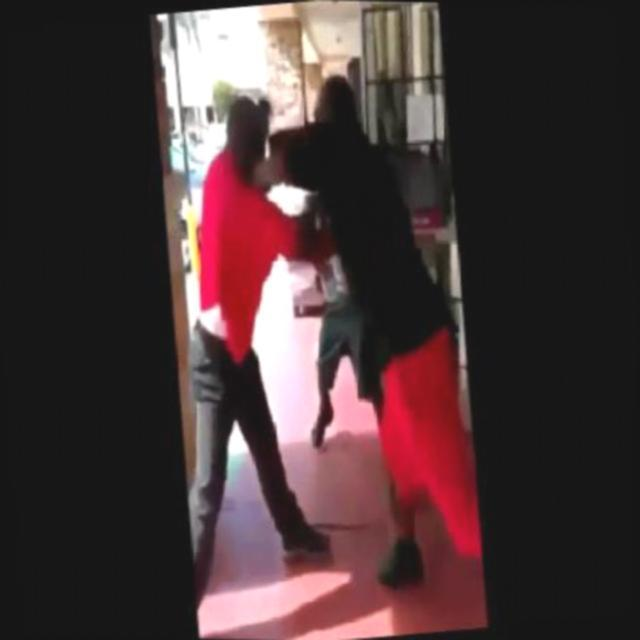fight: (176, 60, 478, 502)
